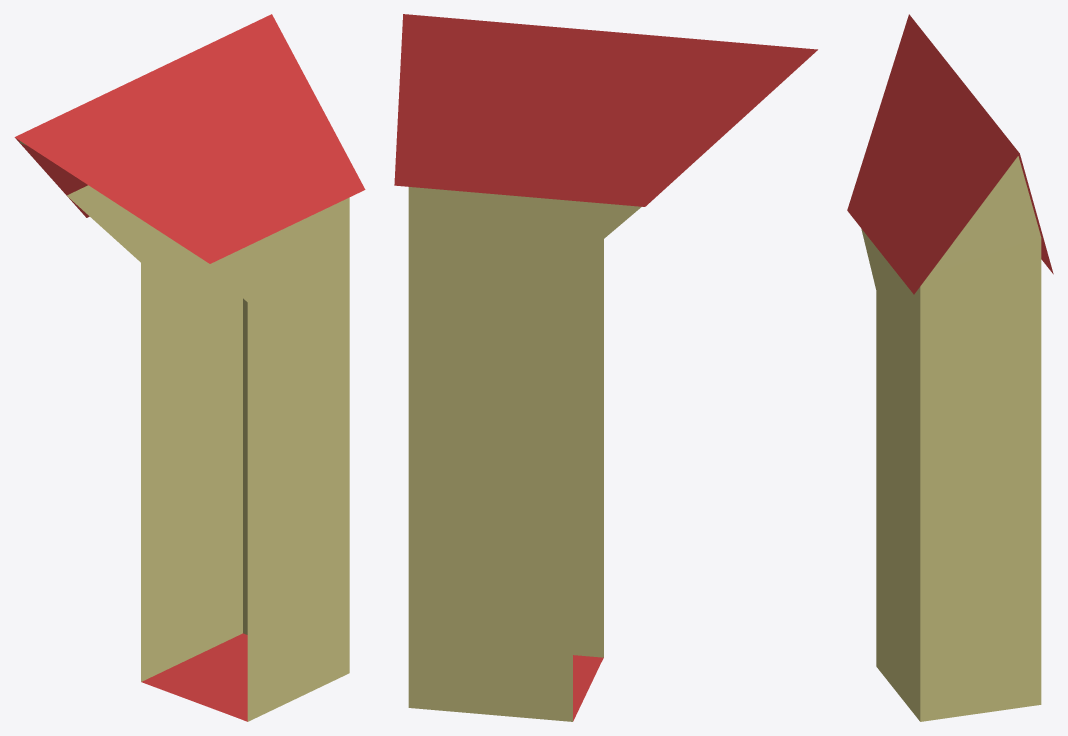
The picture shows the model from 3 angles, left to right: view 1: azimuth 30°, elevation 25°; view 2: azimuth 150°, elevation 25°; view 3: azimuth 270°, elevation 25°; orthographic projection. The views are drawn at different scales.
Bounding box in the file's own units: 9.15 × 5.17 × 15.43.
